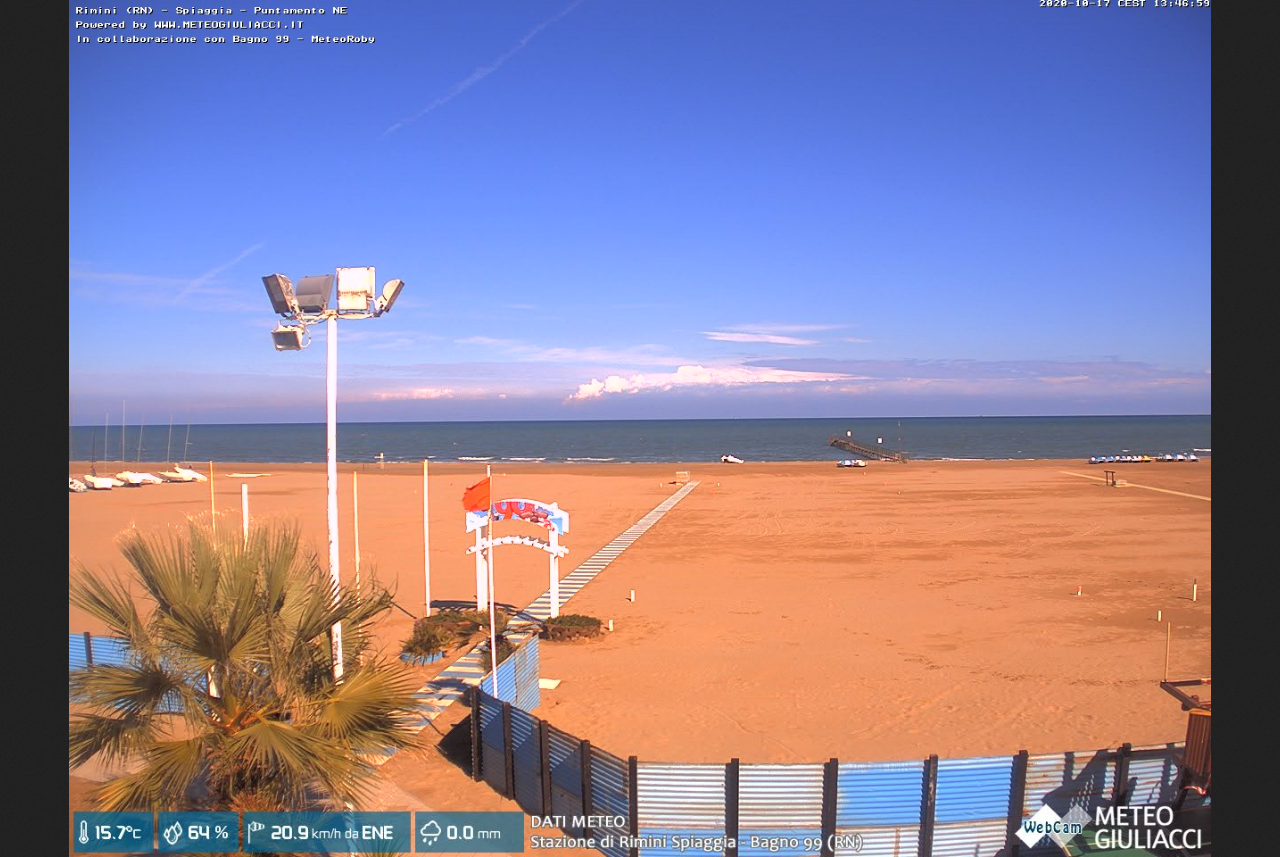yes: (455, 476, 498, 516)
